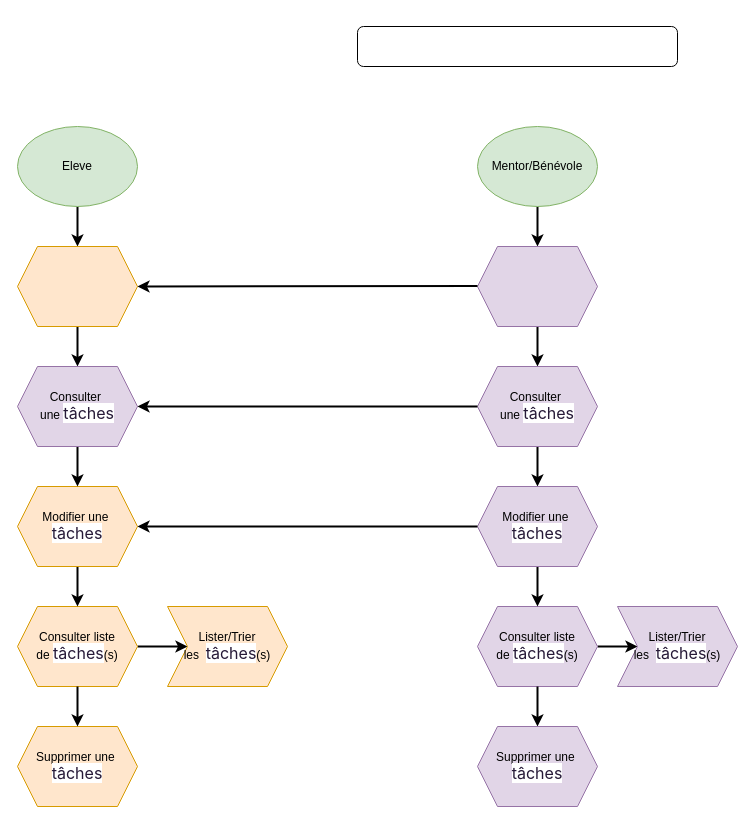
Some shapes in this 755 by 824 pixel diagram are drawn without their labels. The shapes that lost their labels are listed below. From the top down, each one's centre as x and y in pixels, then its label:
point 517,46: Diagramme de cas d’usage – Gestion des tâches
point 77,286: Créer un tâches
point 537,286: Créer une tâches
